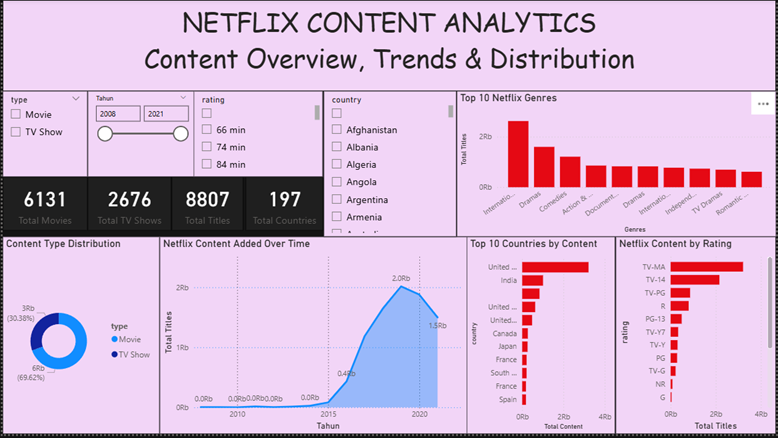

This screenshot's page, from the dashboard's own definition file:
{"tool":"powerbi","page":{"name":"Halaman 1","canvas":[1280,720],"ordinal":0},"visuals":[{"type":"card","fields":{"Values":["netflix_titles.Total Movies"]},"box":[0,293.4,140.8,89.2],"z":0},{"type":"card","fields":{"Values":["netflix_titles.Total TV Shows"]},"box":[140.8,293.4,138.8,89.2],"z":1000},{"type":"card","fields":{"Values":["netflix_titles.Total Titles"]},"box":[279.5,293.4,118.9,89.2],"z":2000},{"type":"donutChart","title":"Content Type Distribution","fields":{"Category":["netflix_titles.type"],"Y":["netflix_titles.Total Titles"]},"box":[0,392.5,259.7,327.1],"z":3000},{"type":"lineChart","title":"Netflix Content Added Over Time","fields":{"Category":["netflix_titles.Tahun"],"Y":["netflix_titles.Total Titles"]},"box":[259.7,392.5,509.5,327.1],"z":4000},{"type":"card","fields":{"Values":["netflix_titles.Total Countries"]},"box":[402.4,293.4,128.9,89.2],"z":5000},{"type":"columnChart","title":"Top 10 Netflix Genres","fields":{"Category":["netflix_titles.listed_in"],"Y":["netflix_titles.Total Titles"]},"box":[751.4,150.7,529.3,241.9],"z":6000},{"type":"barChart","title":"Top 10 Countries by Content","fields":{"Y":["netflix_titles.Total Titles"],"Category":["netflix_titles.country"]},"box":[769.2,392.5,245.8,327.1],"z":7000},{"type":"barChart","title":"Netflix Content by Rating","fields":{"Category":["netflix_titles.rating"],"Y":["netflix_titles.Total Titles"]},"box":[1015,392.5,265.7,327.1],"z":8000},{"type":"slicer","fields":{"Values":["netflix_titles.type"]},"box":[0,150.7,140.8,142.7],"z":9000},{"type":"slicer","fields":{"Values":["netflix_titles.Tahun"]},"box":[140.8,150.7,176.4,142.7],"z":10000},{"type":"slicer","fields":{"Values":["netflix_titles.rating"]},"box":[317.2,150.7,214.1,142.7],"z":11000},{"type":"slicer","fields":{"Values":["netflix_titles.country"]},"box":[531.3,150.7,220.1,241.9],"z":12000},{"type":"textbox","box":[0,0,1280.7,150.7],"z":13000}]}

Visuals, with their boxes in screenshot pixels (x1, y1, x2, y2), scaled from the page's 1280x720 canvas onto the 778x438 screenshot:
card - netflix_titles.Total Movies: bbox=(0, 178, 86, 233)
card - netflix_titles.Total TV Shows: bbox=(86, 178, 170, 233)
card - netflix_titles.Total Titles: bbox=(170, 178, 242, 233)
"Content Type Distribution" donutChart: bbox=(0, 239, 158, 437)
"Netflix Content Added Over Time" lineChart: bbox=(158, 239, 468, 437)
card - netflix_titles.Total Countries: bbox=(245, 178, 323, 233)
"Top 10 Netflix Genres" columnChart: bbox=(457, 92, 777, 239)
"Top 10 Countries by Content" barChart: bbox=(468, 239, 617, 437)
"Netflix Content by Rating" barChart: bbox=(617, 239, 777, 437)
slicer - netflix_titles.type: bbox=(0, 92, 86, 178)
slicer - netflix_titles.Tahun: bbox=(86, 92, 193, 178)
slicer - netflix_titles.rating: bbox=(193, 92, 323, 178)
slicer - netflix_titles.country: bbox=(323, 92, 457, 239)
textbox: bbox=(0, 0, 777, 92)
